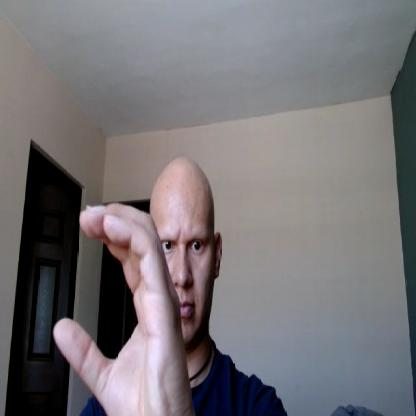C: (52, 201, 193, 415)
